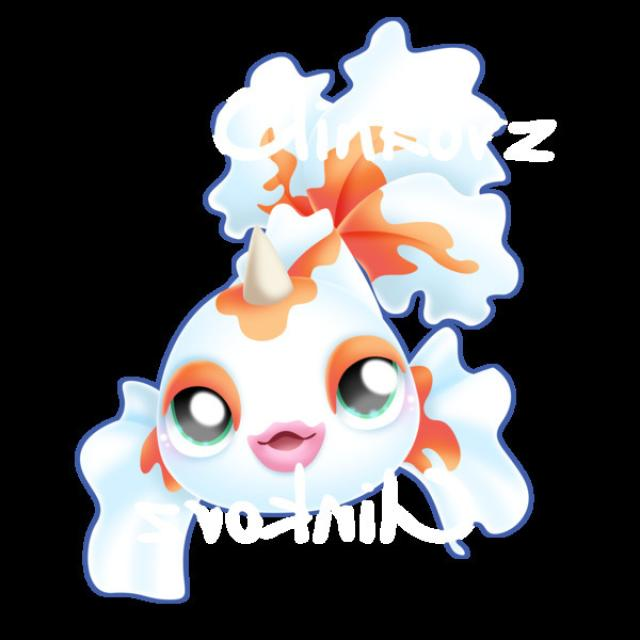Goldeen: (131, 177, 521, 534)
